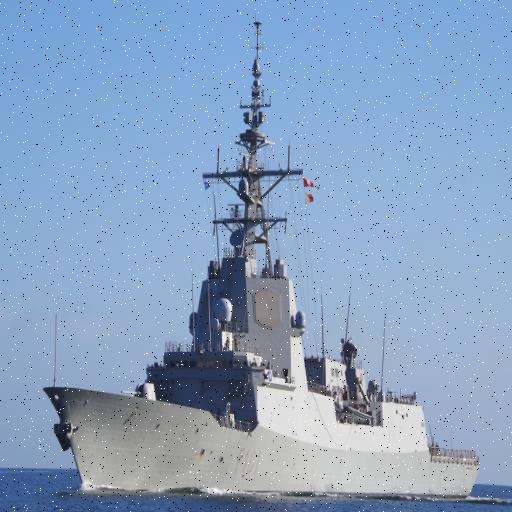Fragata: (41, 8, 485, 500)
